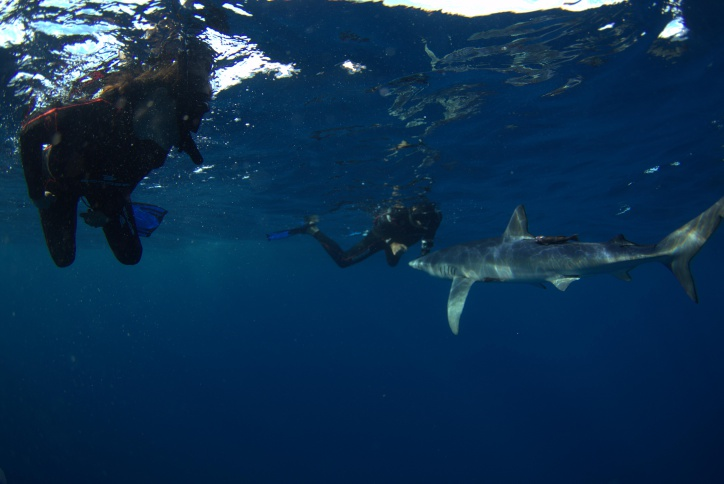Azul: (166, 263, 390, 338)
